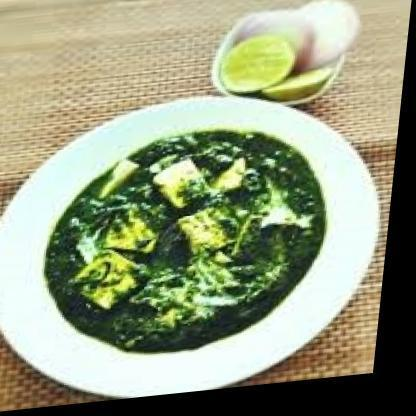palak_paneer: (40, 126, 341, 369)
